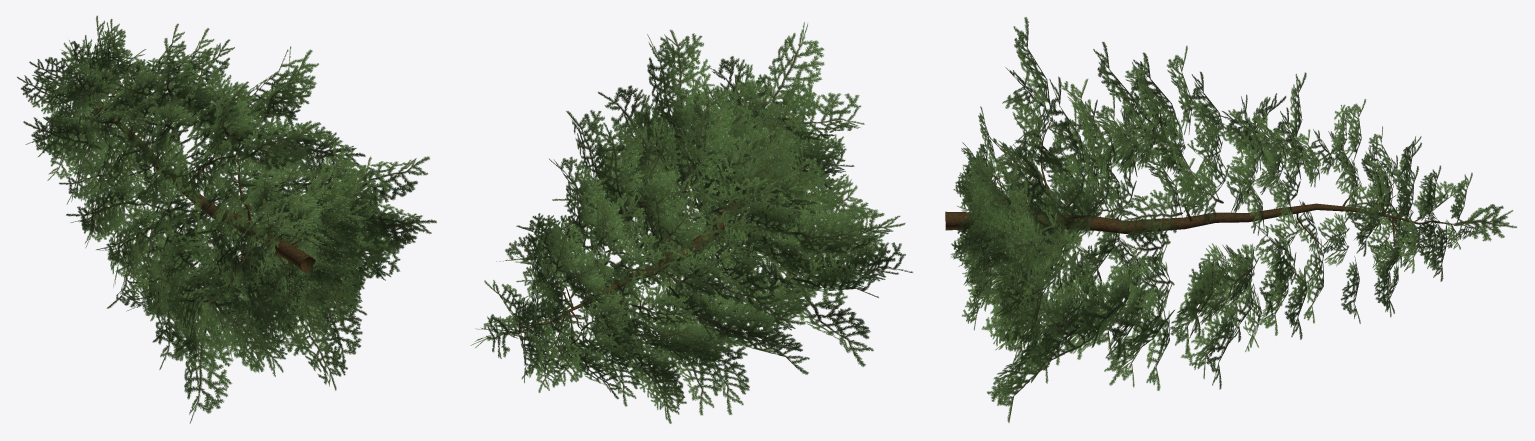
The model's file is birch_lod1.glb.
3 renders of one model, left to right at view 1: azimuth 30°, elevation 25°; view 2: azimuth 150°, elevation 25°; view 3: azimuth 270°, elevation 25°, orthographic. The views are drawn at different scales.
Visible parts, largest first — view 1: Christmas tree_4_LOD1; view 2: Christmas tree_4_LOD1; view 3: Christmas tree_4_LOD1.
Part boxes in pixels (x1=…): Christmas tree_4_LOD1: x1=17, y1=15, x2=436, y2=423; Christmas tree_4_LOD1: x1=470, y1=22, x2=912, y2=423; Christmas tree_4_LOD1: x1=945, y1=17, x2=1517, y2=422.
Bounding box in the file's own units: 3.15 × 3.09 × 4.43.
2 materials, 2 textured.
